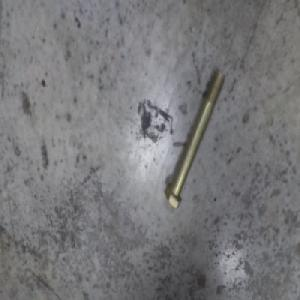Bolt: (163, 71, 222, 208)
